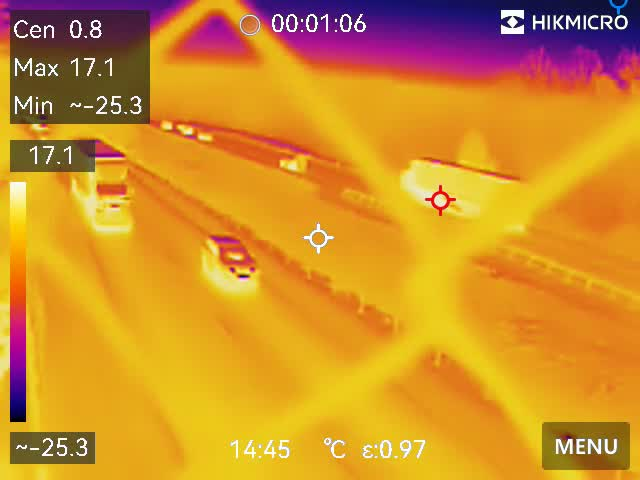heavyTruck: (399, 153, 534, 231), (67, 134, 134, 236)
largeCar: (200, 227, 262, 290)
vehicle: (278, 154, 311, 176), (198, 133, 218, 145), (178, 123, 191, 137), (159, 118, 171, 130)
